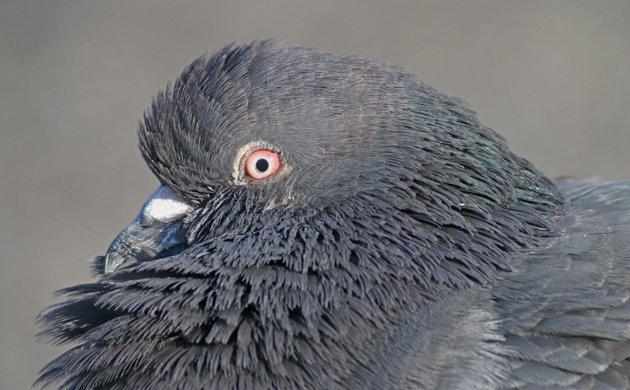Flying Rat: (78, 51, 630, 390)
